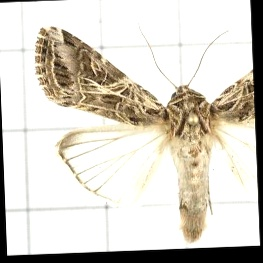Spodoptera litura: (35, 21, 255, 245)
